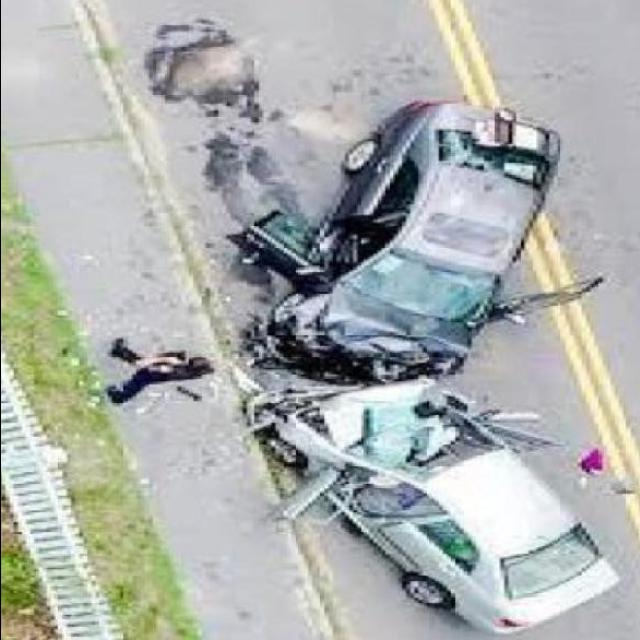accident: (271, 210, 521, 562)
